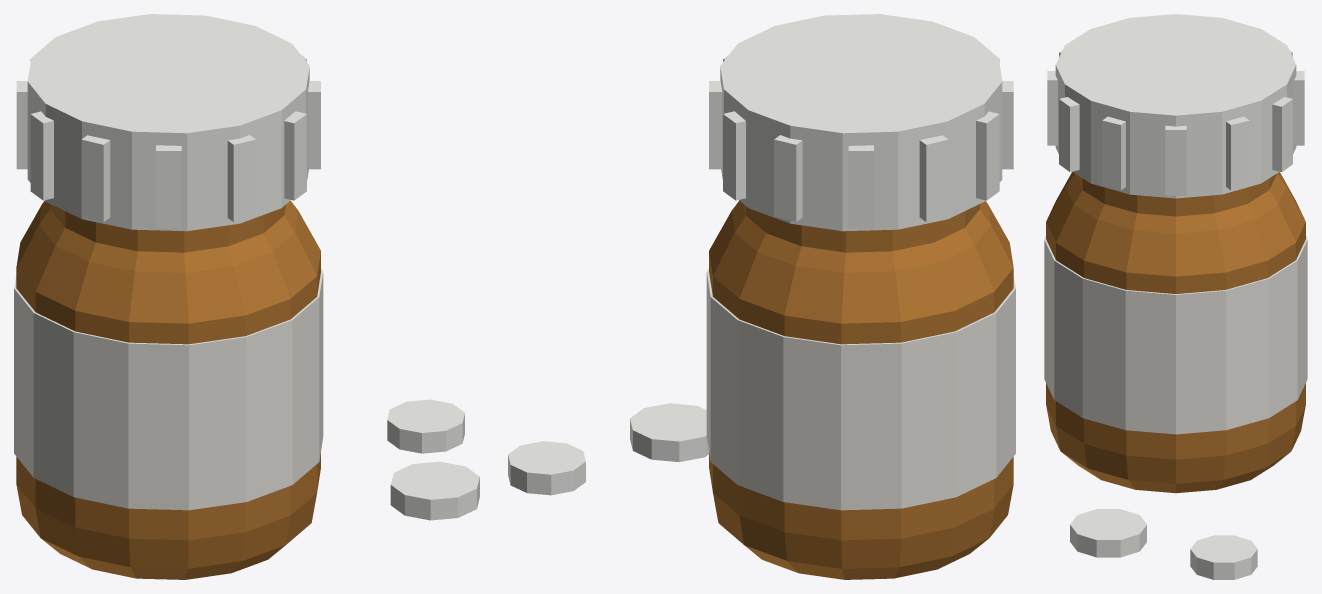
File: medicine.glb
The picture shows the model from 3 angles, left to right: view 1: azimuth 30°, elevation 25°; view 2: azimuth 150°, elevation 25°; view 3: azimuth 270°, elevation 25°; orthographic projection. The views are drawn at different scales.
Parts seen in each view (by area): view 1: medicine; view 2: medicine; view 3: medicine.
Boxes of the visible parts, <box> form: medicine: <box>14,14,479,579</box>; medicine: <box>508,14,1015,579</box>; medicine: <box>1044,14,1307,579</box>.
Bounding box in the file's own units: 0.0921 × 0.088 × 0.0548.
